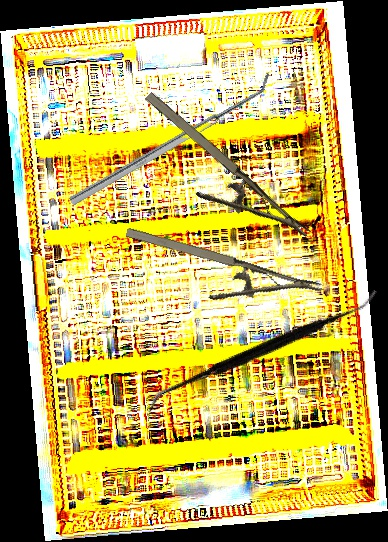Needle Holder: (120, 86, 312, 270), (115, 222, 325, 331)
Spatula Surgical: (145, 220, 380, 483), (64, 72, 278, 206)
